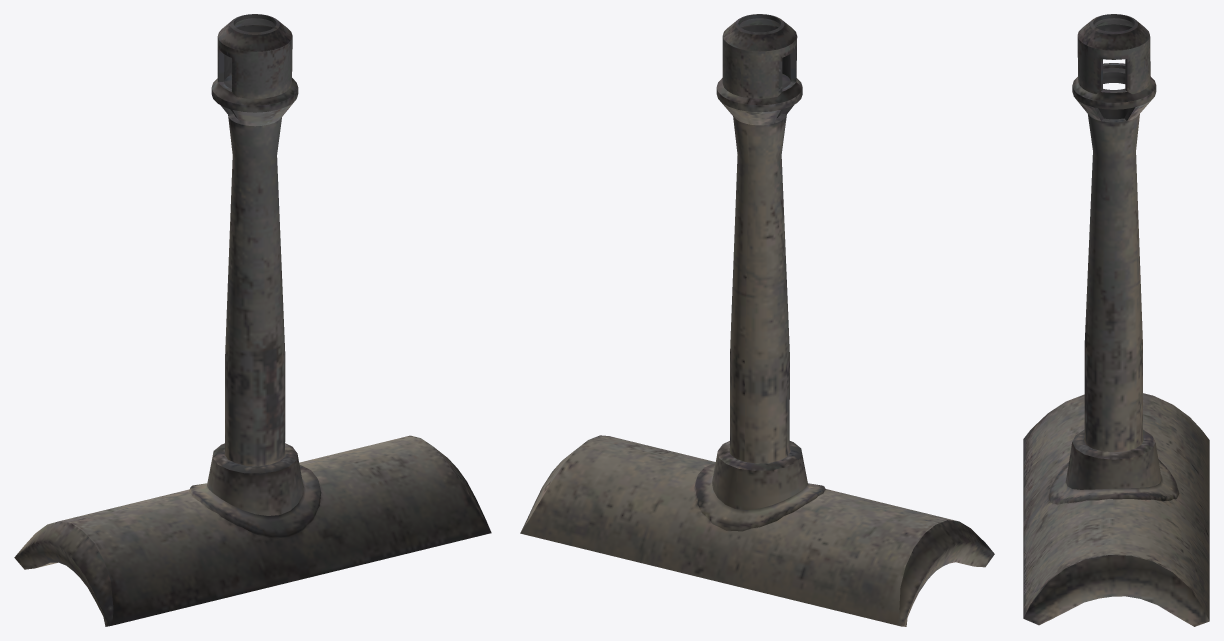
File: Gun_03.glb
3 views of the same model, side by side, from view 1: azimuth 30°, elevation 25°; view 2: azimuth 150°, elevation 25°; view 3: azimuth 270°, elevation 25° (orthographic). The views are drawn at different scales.
Parts seen in each view (by area): view 1: set_0_group_0; view 2: set_0_group_0; view 3: set_0_group_0.
Part boxes in pixels (x1,y1,x2,y2): set_0_group_0: [14, 14, 491, 626]; set_0_group_0: [520, 14, 994, 626]; set_0_group_0: [1023, 14, 1209, 626].
Size of the model in its own units: 1.54 by 2.04 by 0.6704.
1 material, 1 textured.
